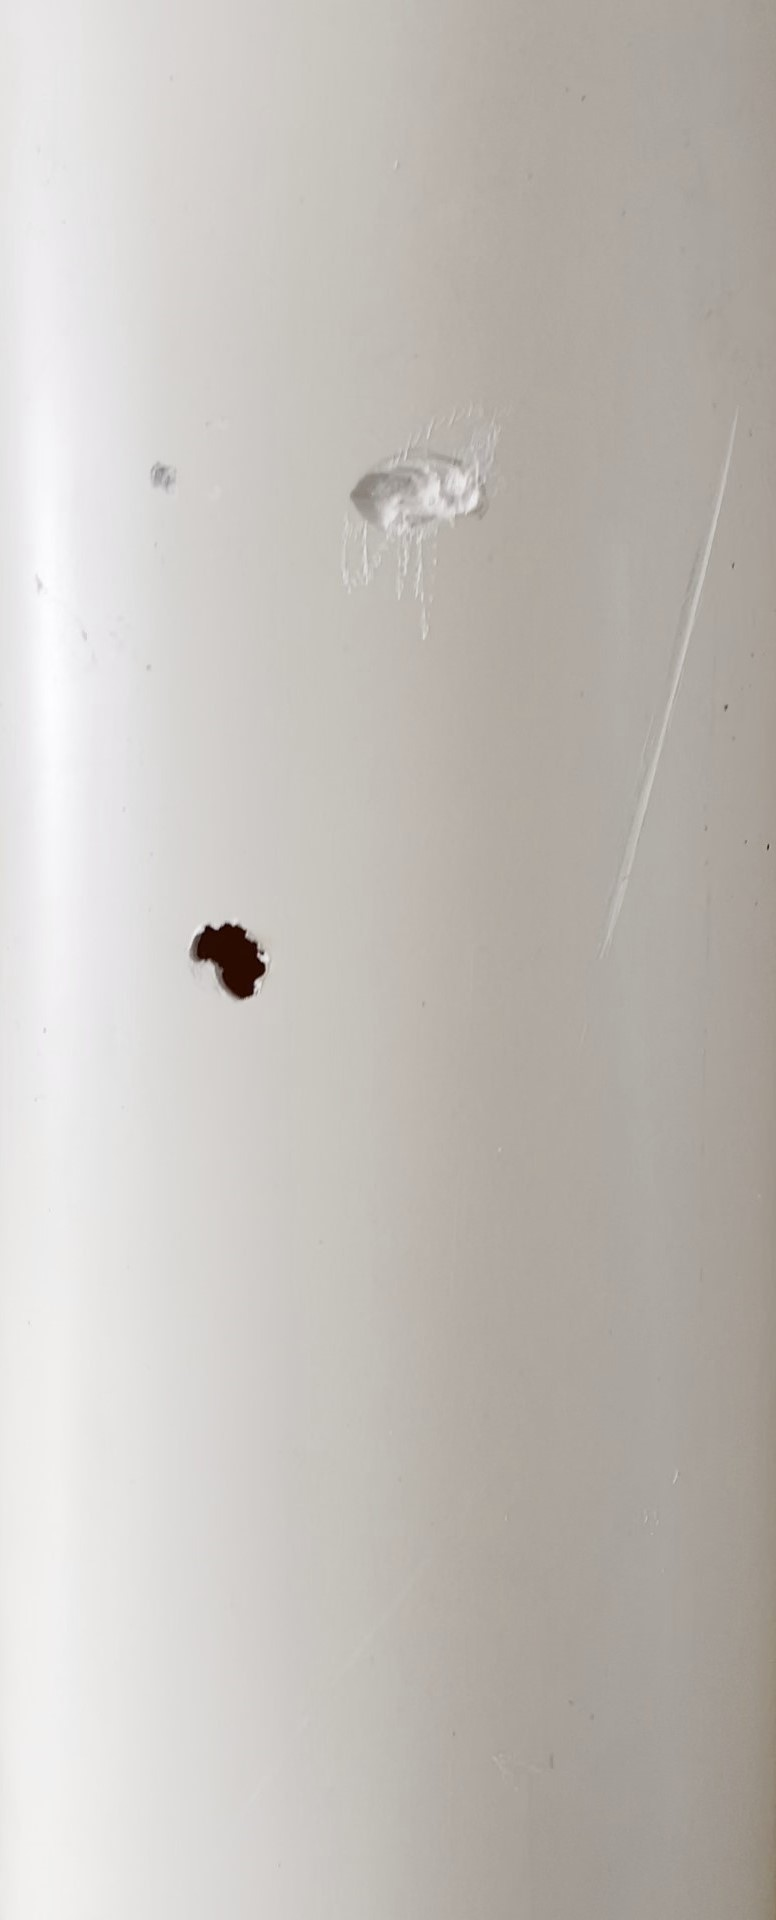kongdong: (176, 904, 286, 1018)
sunshang: (590, 373, 756, 967), (345, 438, 492, 551)
